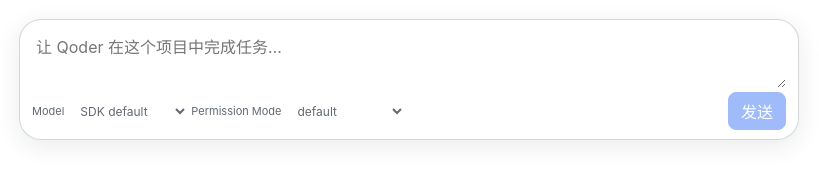
Test: PromptComposer › clears an existing Composer error when the active Session changes
The image size is (819, 195).
Type "失败请求" into the text box named "消息" at (409, 59), box [32, 30, 786, 88]
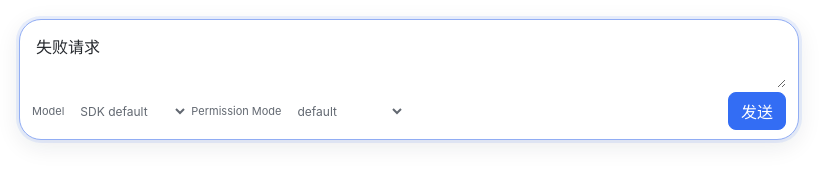
Click the button "发送" at (757, 111), box [728, 92, 786, 130]
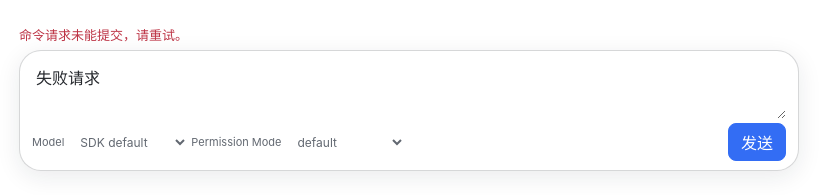
Expected: the text "命令请求未能提交，请重试。" is shown, [19, 27, 188, 43]
